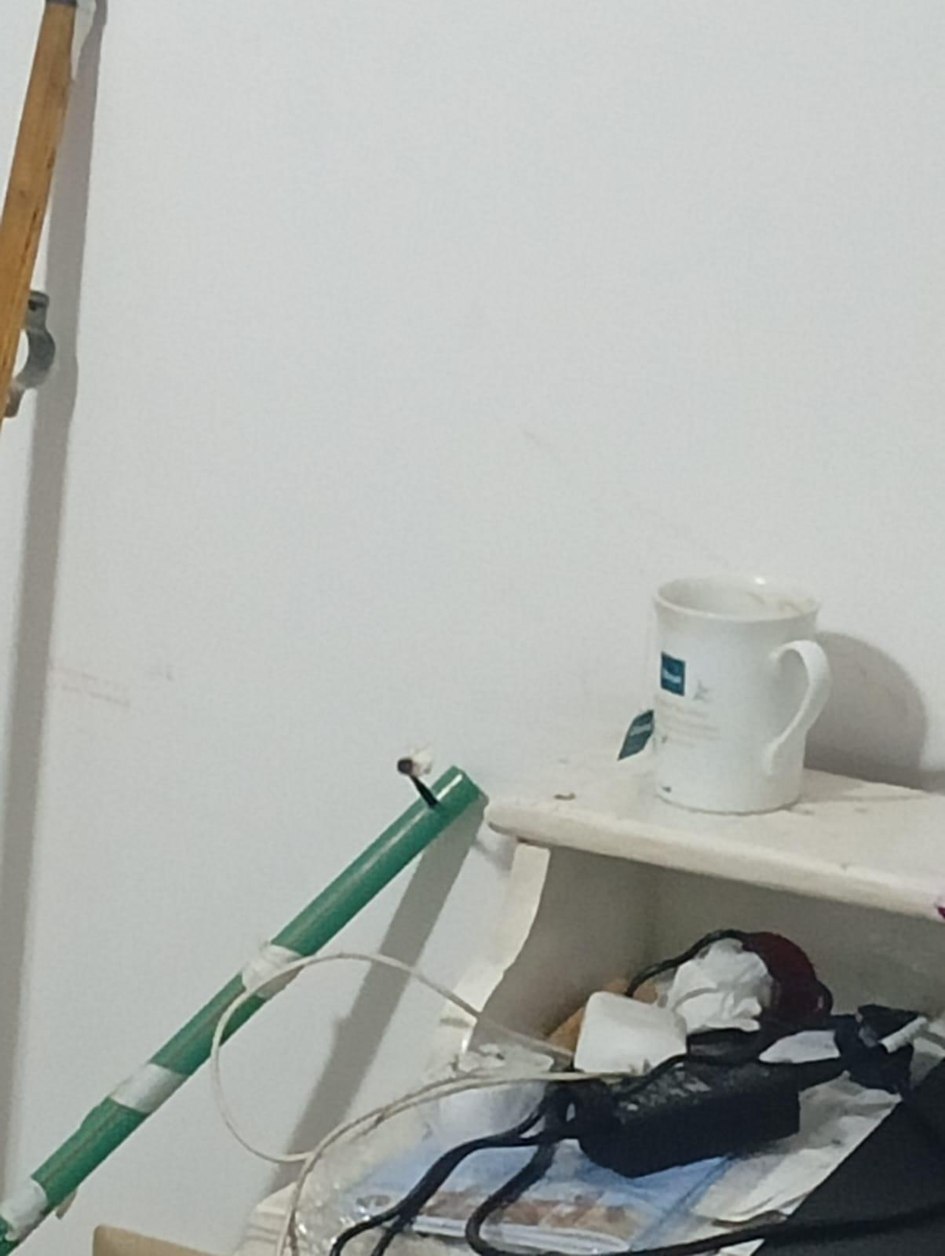cup: (654, 576, 830, 812)
